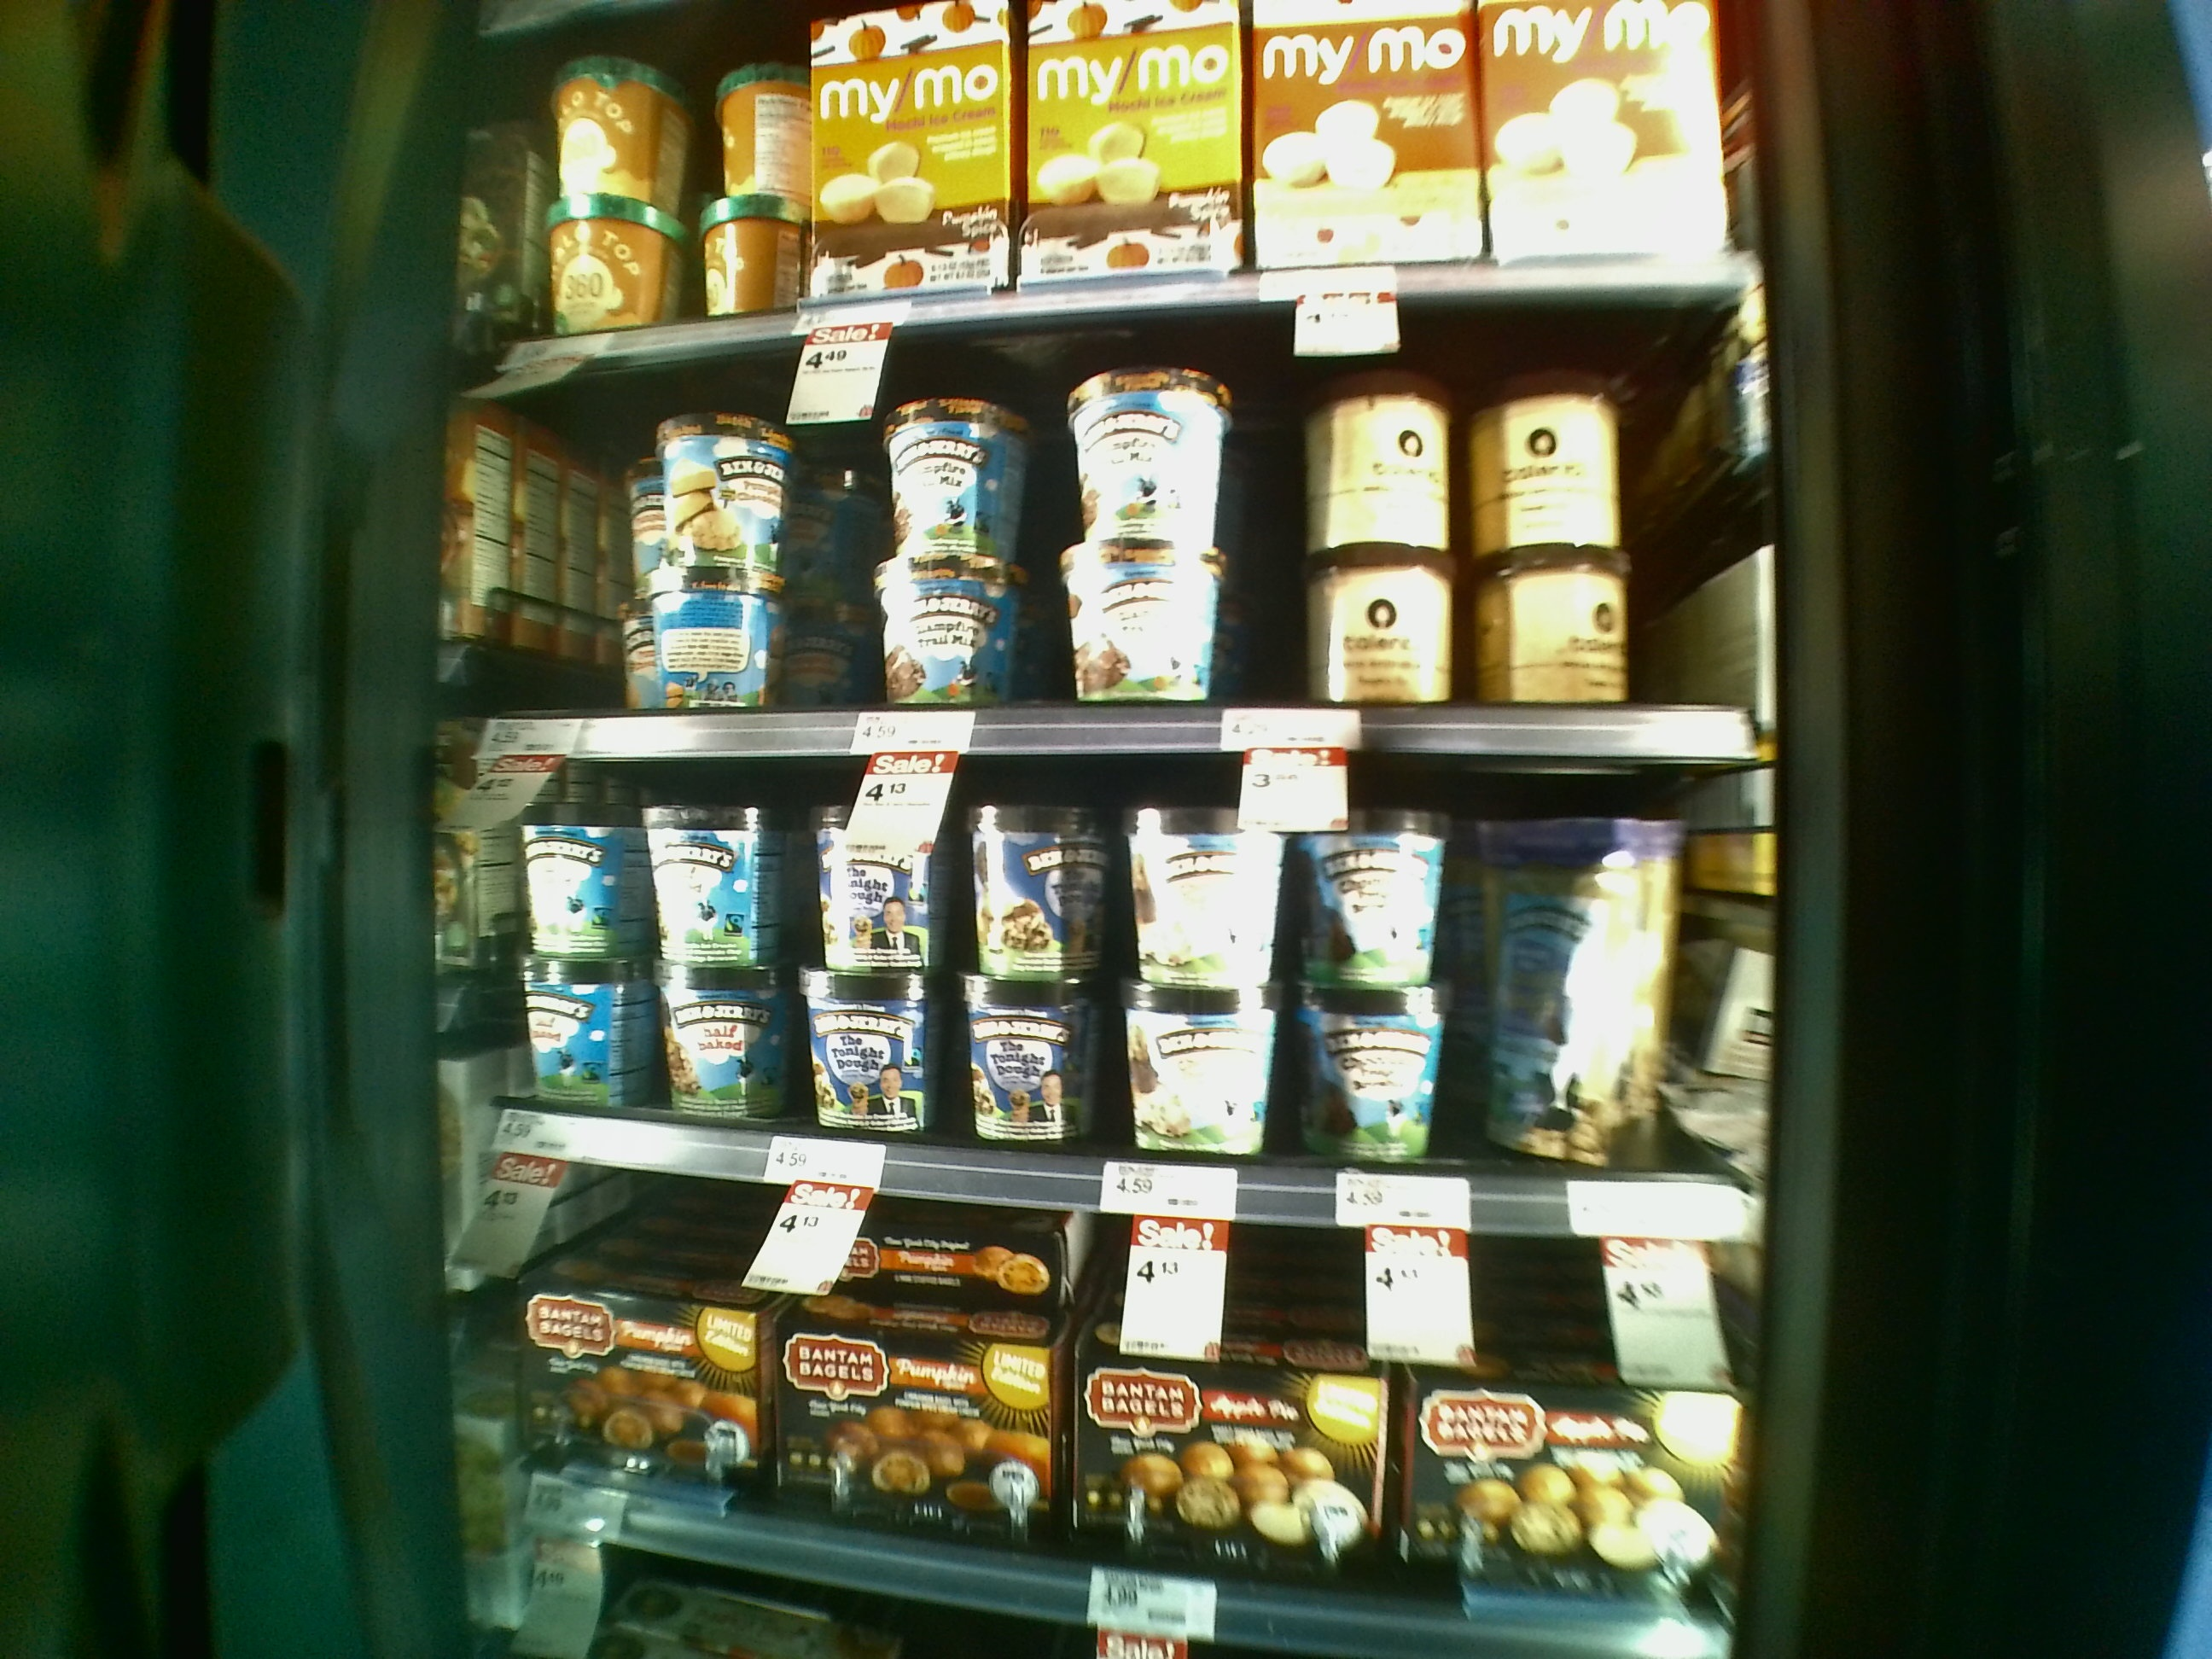shelf: (451, 713, 1773, 1251), (479, 319, 1764, 765)
